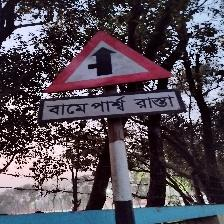Side-road-left: (40, 30, 183, 126)
